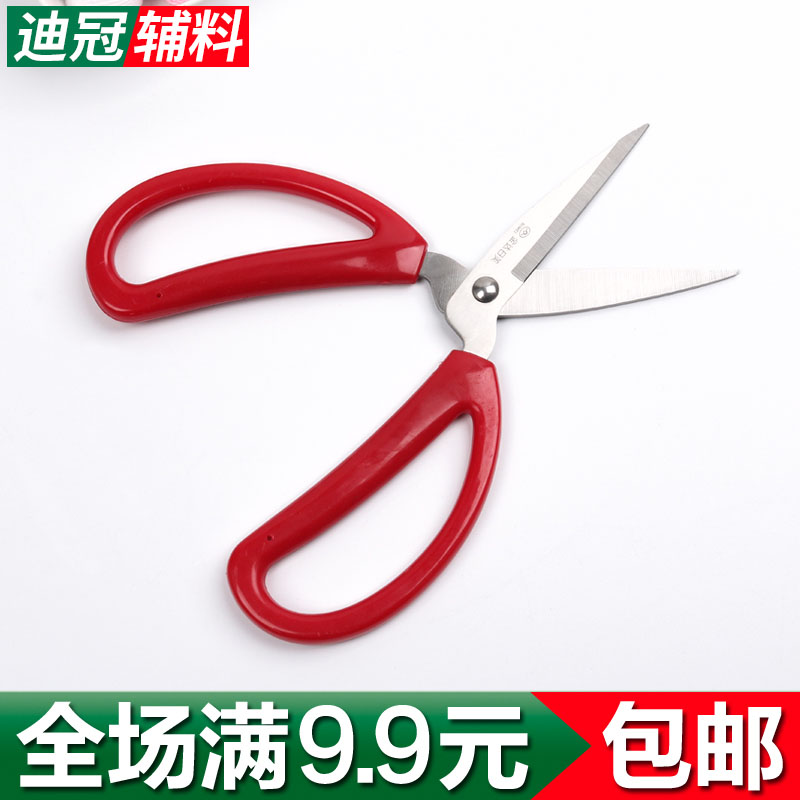scissors: (77, 119, 746, 649)
